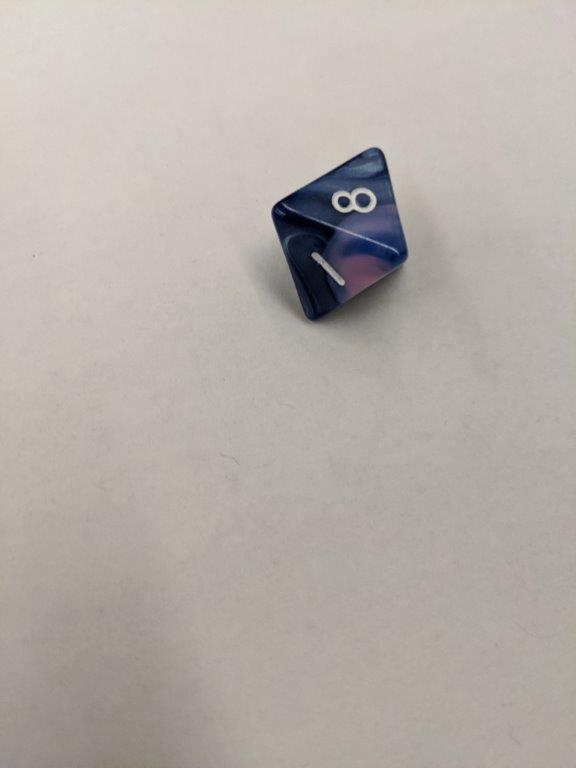d8-8: (270, 144, 410, 324)
